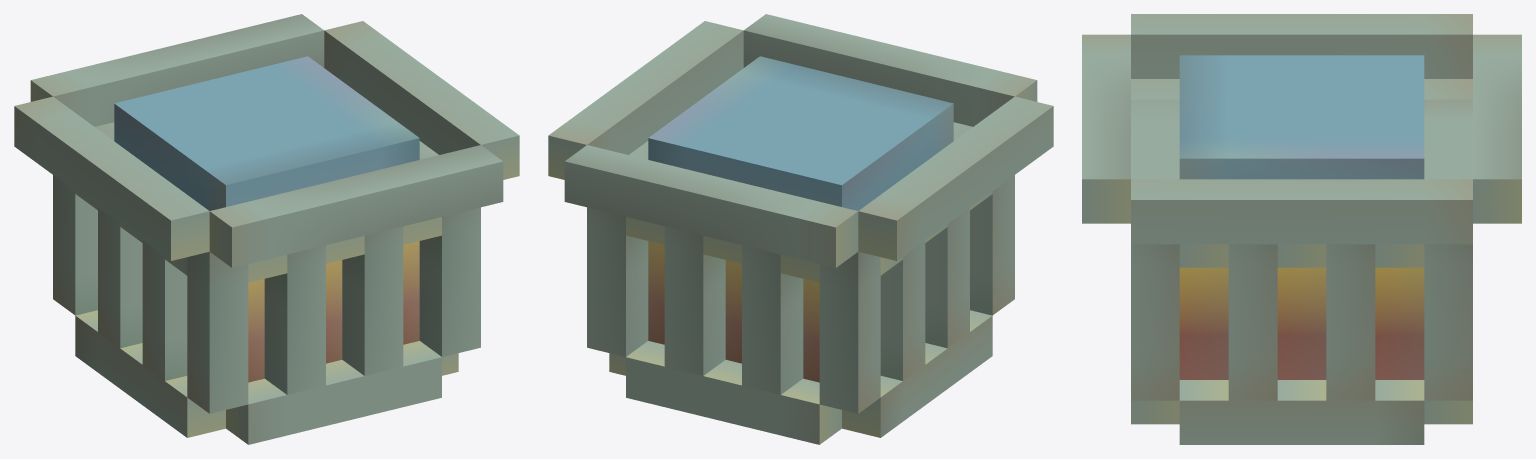
Rendered from ClothesBasket_C_02.fbx.
3 views of the same model, side by side, from view 1: azimuth 30°, elevation 25°; view 2: azimuth 150°, elevation 25°; view 3: azimuth 270°, elevation 25° (orthographic). The views are drawn at different scales.
Visible parts, largest first — view 1: ClothesBasket_C_02; view 2: ClothesBasket_C_02; view 3: ClothesBasket_C_02.
Part boxes in pixels (bbox=[...]): ClothesBasket_C_02: bbox=[14, 14, 519, 444]; ClothesBasket_C_02: bbox=[548, 14, 1053, 444]; ClothesBasket_C_02: bbox=[1082, 14, 1521, 444].
Bounding box in the file's own units: 45 × 45 × 30.
1 material, 1 textured.
